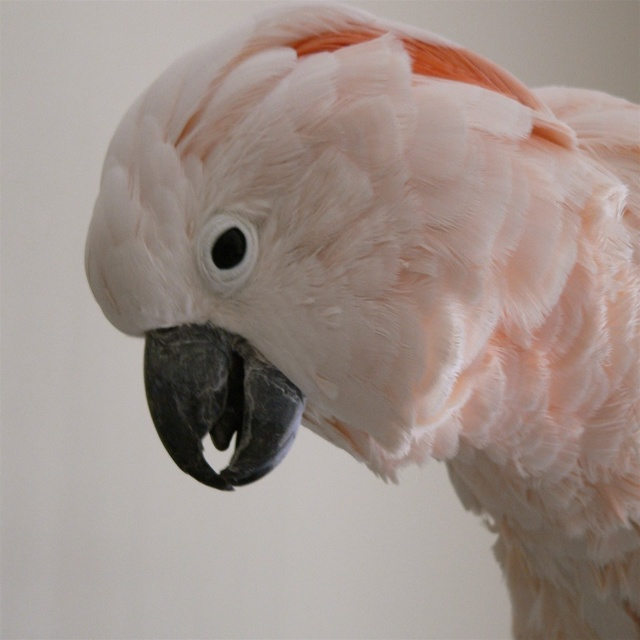Parrot: (84, 0, 640, 640)
